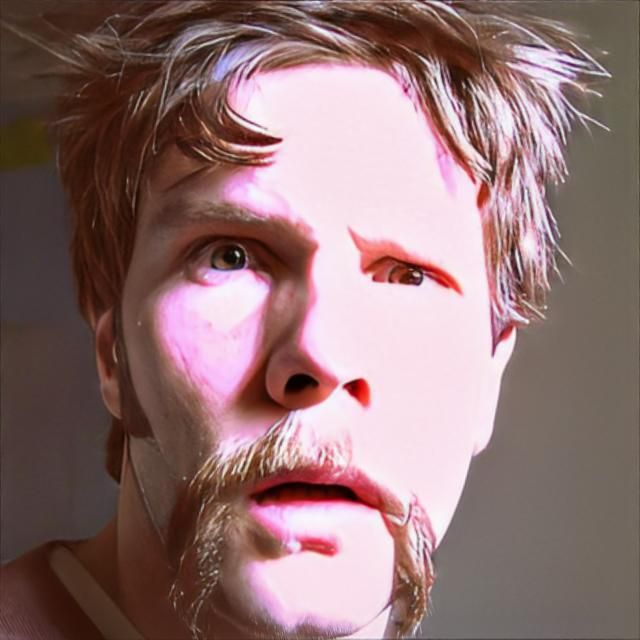fear: (118, 50, 490, 640)
